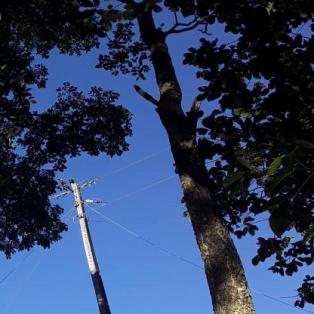Poste: (64, 179, 155, 314)
